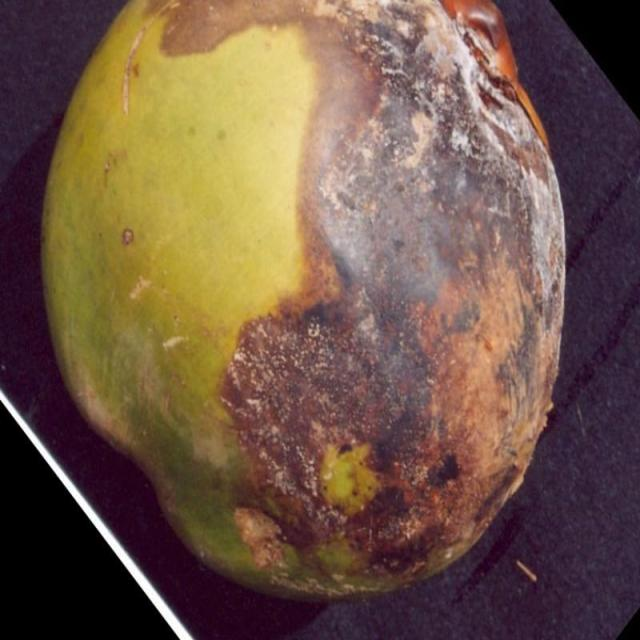damaged: (38, 0, 567, 613)
